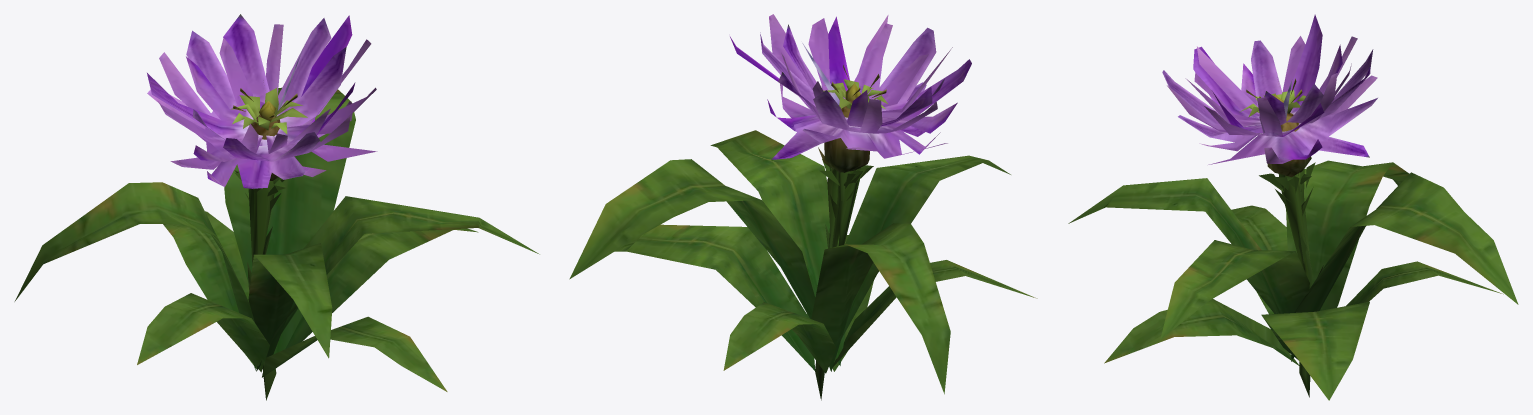
The model's file is jungle-thistle.lod0.glb.
3 renders of one model, left to right at view 1: azimuth 30°, elevation 25°; view 2: azimuth 150°, elevation 25°; view 3: azimuth 270°, elevation 25°, orthographic. The views are drawn at different scales.
Visible parts, largest first — view 1: SM_JunglePlants_ThristlePlant_LOD0.mo_MI_JunglePlants_Thrist; view 2: SM_JunglePlants_ThristlePlant_LOD0.mo_MI_JunglePlants_Thrist; view 3: SM_JunglePlants_ThristlePlant_LOD0.mo_MI_JunglePlants_Thrist.
Part boxes in pixels (<box>): SM_JunglePlants_ThristlePlant_LOD0.mo_MI_JunglePlants_Thrist: <box>14,14,539,400</box>; SM_JunglePlants_ThristlePlant_LOD0.mo_MI_JunglePlants_Thrist: <box>569,14,1037,400</box>; SM_JunglePlants_ThristlePlant_LOD0.mo_MI_JunglePlants_Thrist: <box>1068,14,1518,400</box>.
Size of the model in its own units: 1.79 by 1.52 by 1.81.
Materials: 1 (1 with a texture image).
